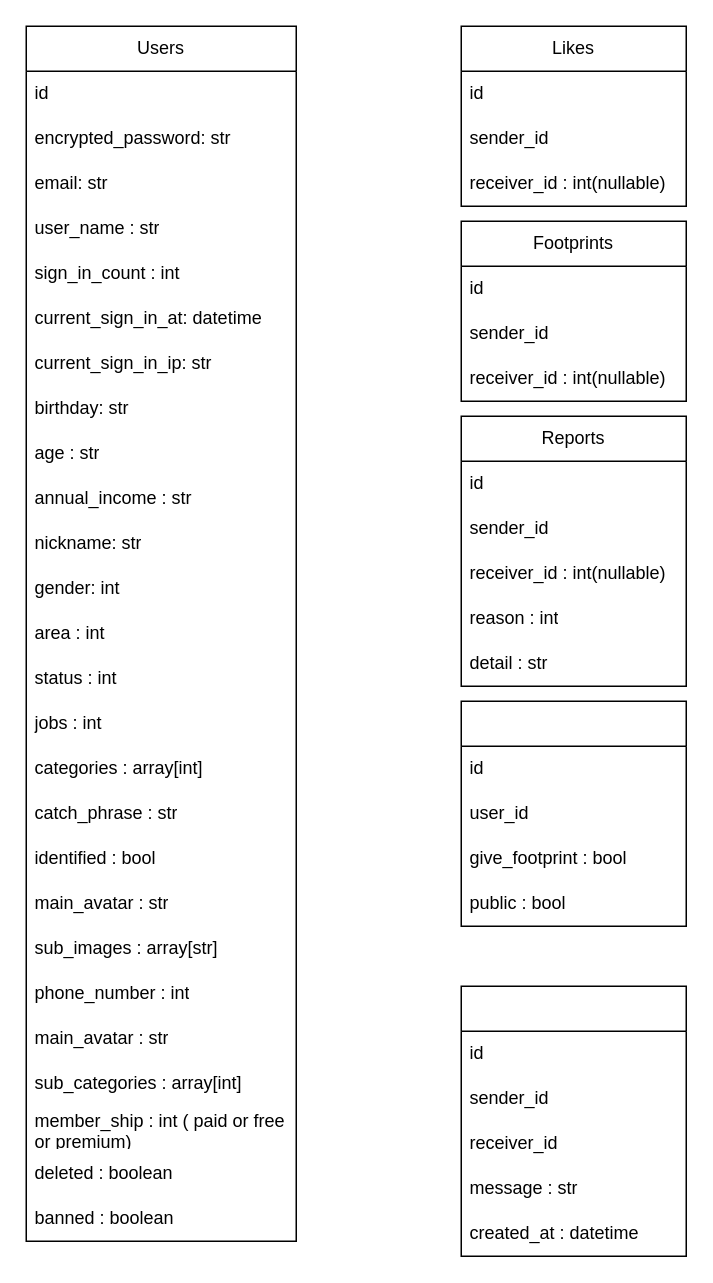
Some shapes in this 713 by 1283 pixel diagram are drawn without their labels. The shapes that lost their labels are listed below. From the top down, each one's box as (x1, y1, x2, y2) in pixels, then its label:
(460, 700, 686, 926): ServiceSettings
(460, 985, 686, 1256): Chats
